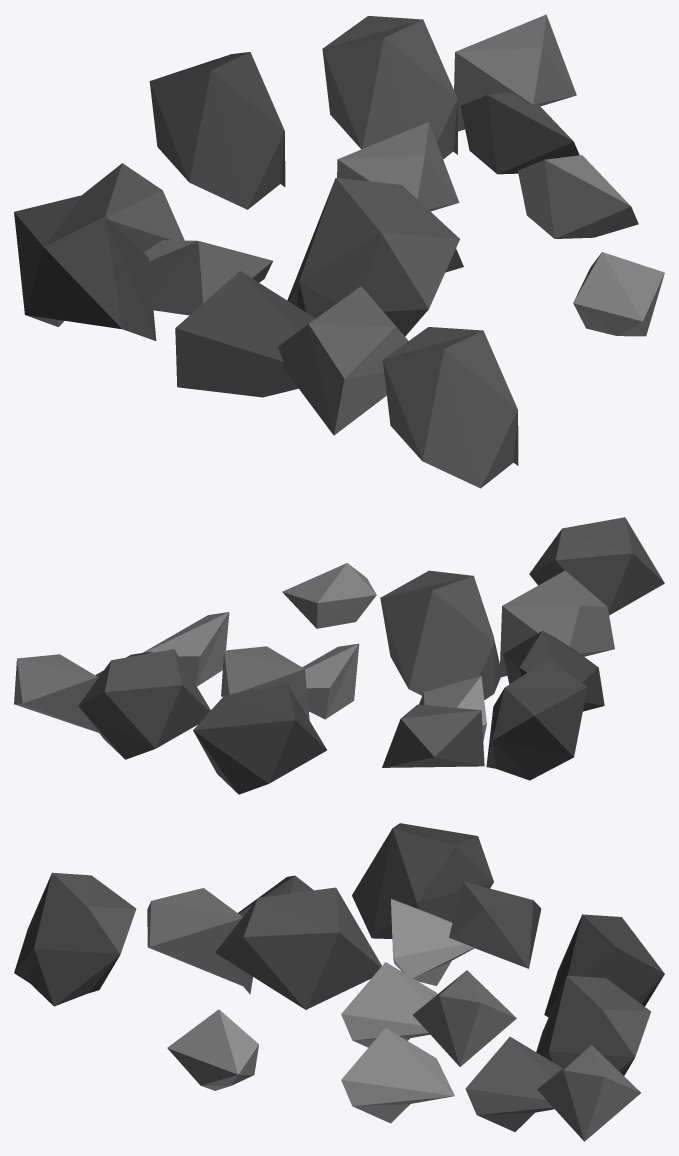
File: stoun_props4.fbx
The picture shows the model from 3 angles, top to bottom: view 1: azimuth 30°, elevation 25°; view 2: azimuth 150°, elevation 25°; view 3: azimuth 270°, elevation 25°; orthographic projection. The views are drawn at different scales.
Visible parts, largest first — view 1: Object.025; view 2: Object.025; view 3: Object.025.
Part boxes in pixels (<box>): Object.025: <box>14,14,664,488</box>; Object.025: <box>14,517,664,794</box>; Object.025: <box>14,823,664,1141</box>.
Size of the model in its own units: 96.11 by 21.72 by 108.
